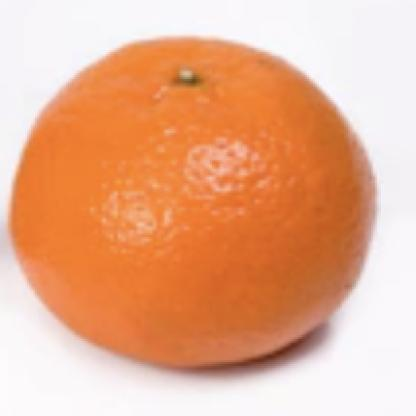fresh: (13, 39, 384, 367)
